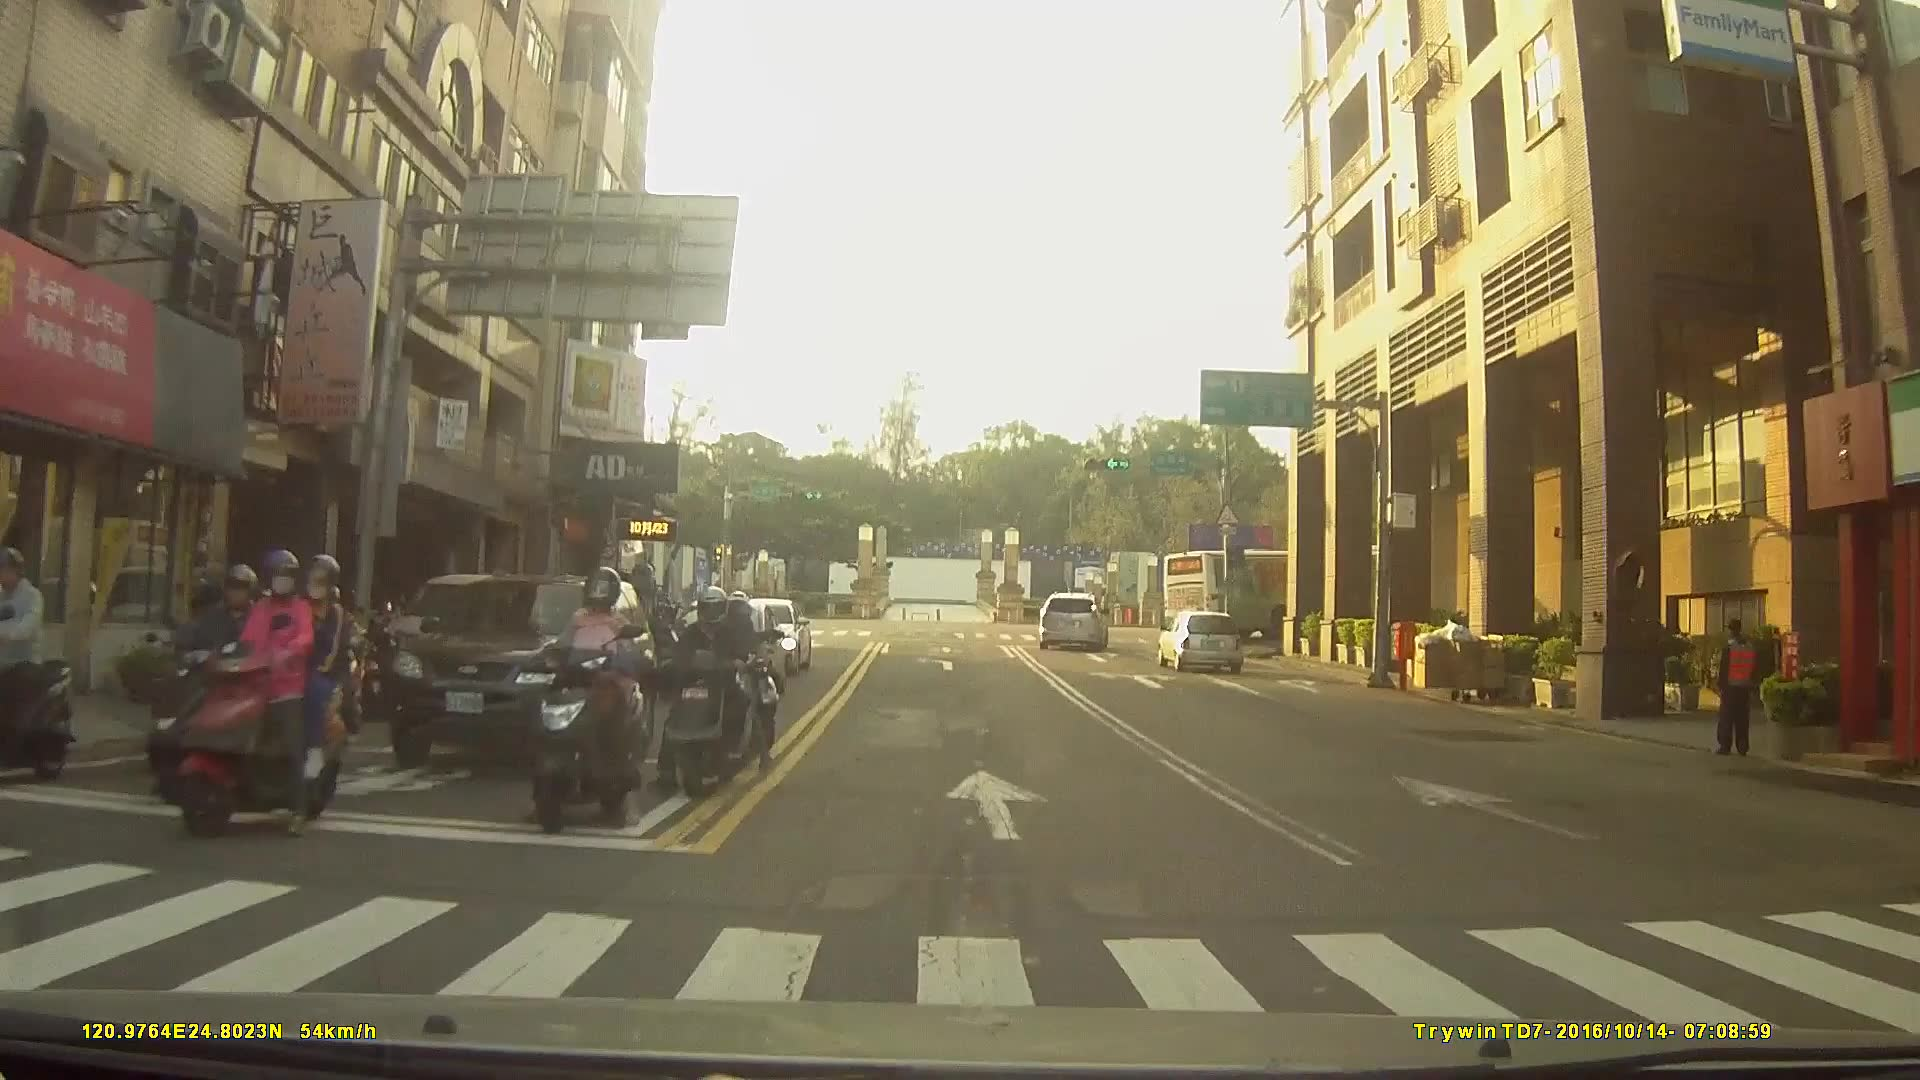pedestrian: (1704, 618, 1767, 763)
rider: (150, 544, 336, 833), (512, 561, 655, 830), (656, 587, 761, 798), (1, 559, 83, 780)
vehicle: (383, 574, 655, 764), (1160, 543, 1406, 636), (1154, 607, 1244, 670), (1037, 593, 1112, 650)
